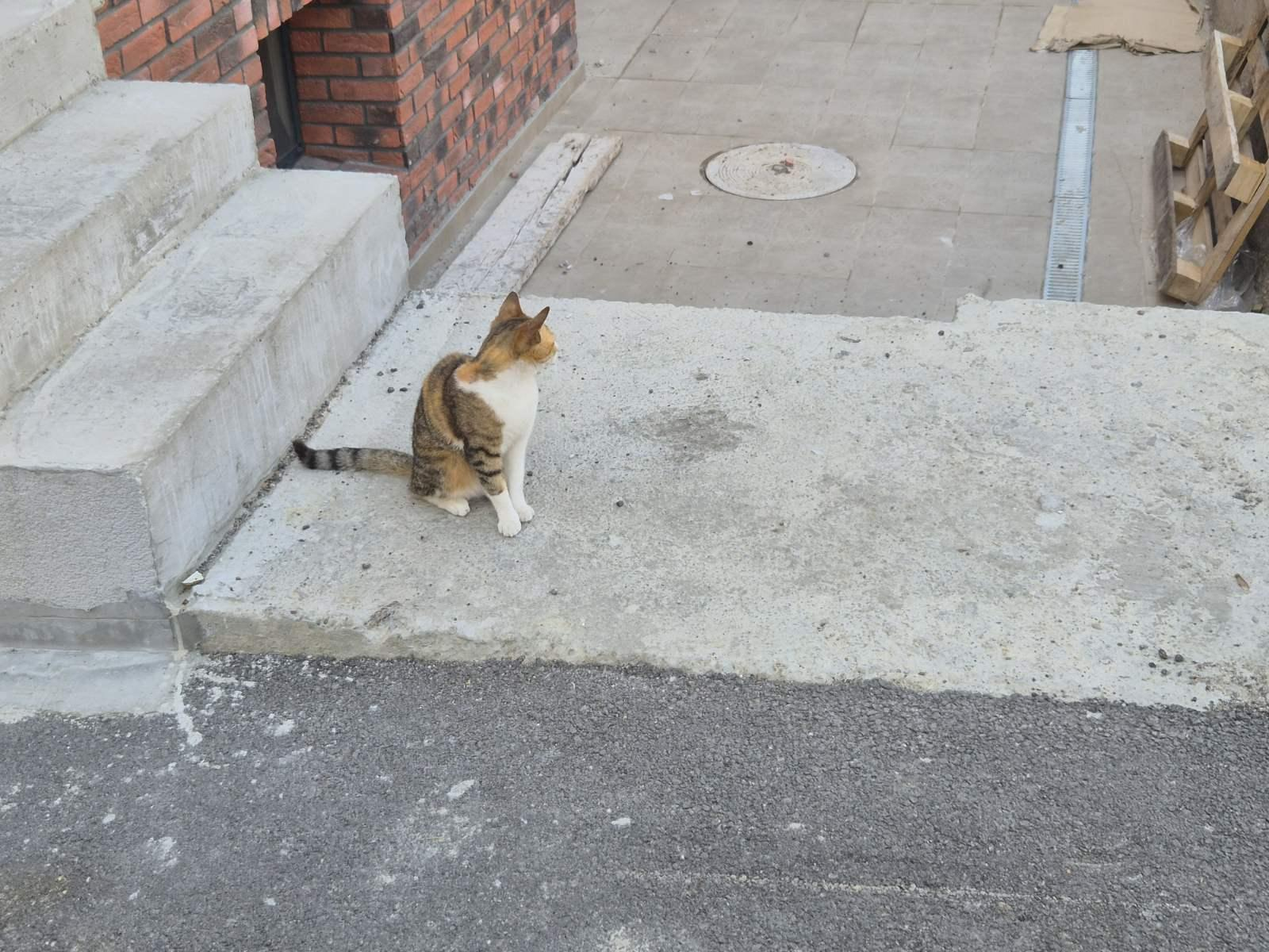macka: (294, 289, 561, 539)
